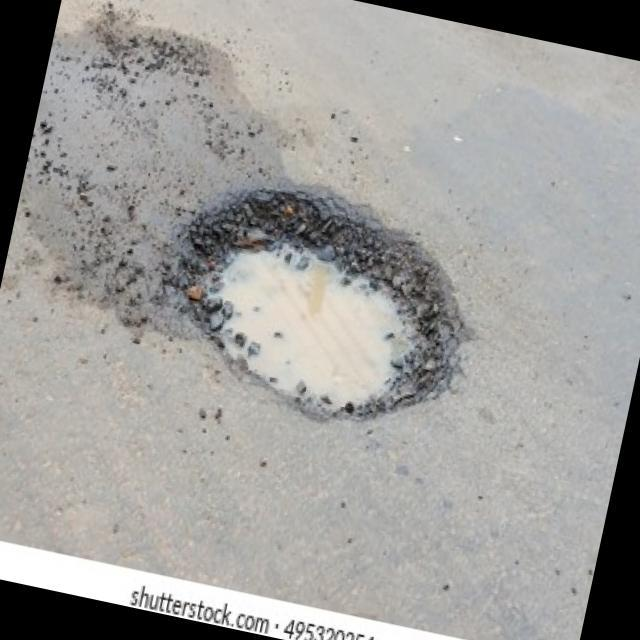Pothole: (152, 164, 491, 450)
